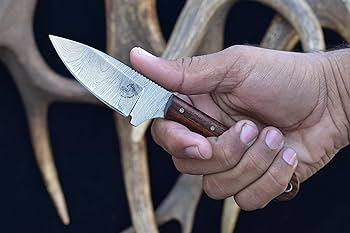Knife: (130, 43, 350, 211), (130, 45, 338, 212), (49, 34, 173, 121)
